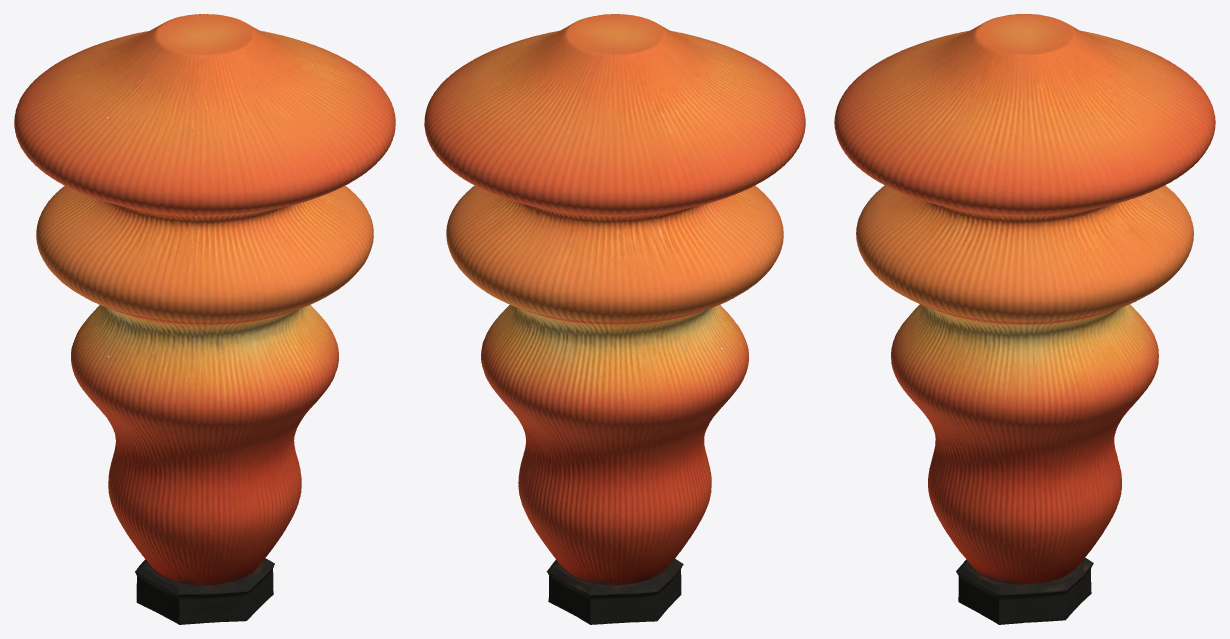
File: lamp_model1_optimized.glb
3 renders of one model, left to right at view 1: azimuth 30°, elevation 25°; view 2: azimuth 150°, elevation 25°; view 3: azimuth 270°, elevation 25°, orthographic.
Visible parts, largest first — view 1: tripo_node_a60a1548-e3f7-4fbb-8f3a-f5dd74e4edc6; view 2: tripo_node_a60a1548-e3f7-4fbb-8f3a-f5dd74e4edc6; view 3: tripo_node_a60a1548-e3f7-4fbb-8f3a-f5dd74e4edc6.
Boxes of the visible parts, <box> form: tripo_node_a60a1548-e3f7-4fbb-8f3a-f5dd74e4edc6: <box>14,14,395,624</box>; tripo_node_a60a1548-e3f7-4fbb-8f3a-f5dd74e4edc6: <box>424,14,805,624</box>; tripo_node_a60a1548-e3f7-4fbb-8f3a-f5dd74e4edc6: <box>834,14,1215,624</box>.
Size of the model in its own units: 0.6121 by 1 by 0.6131.
2 materials, 1 textured.
